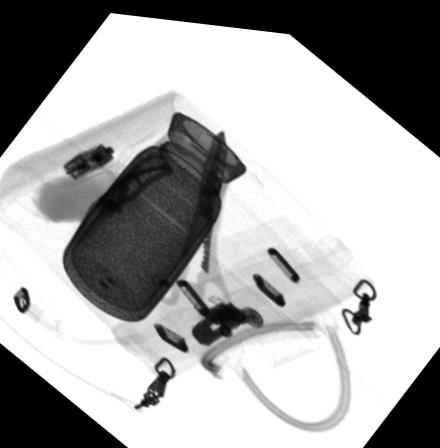Knife: (69, 141, 175, 251)
Scissors: (143, 123, 235, 325)
